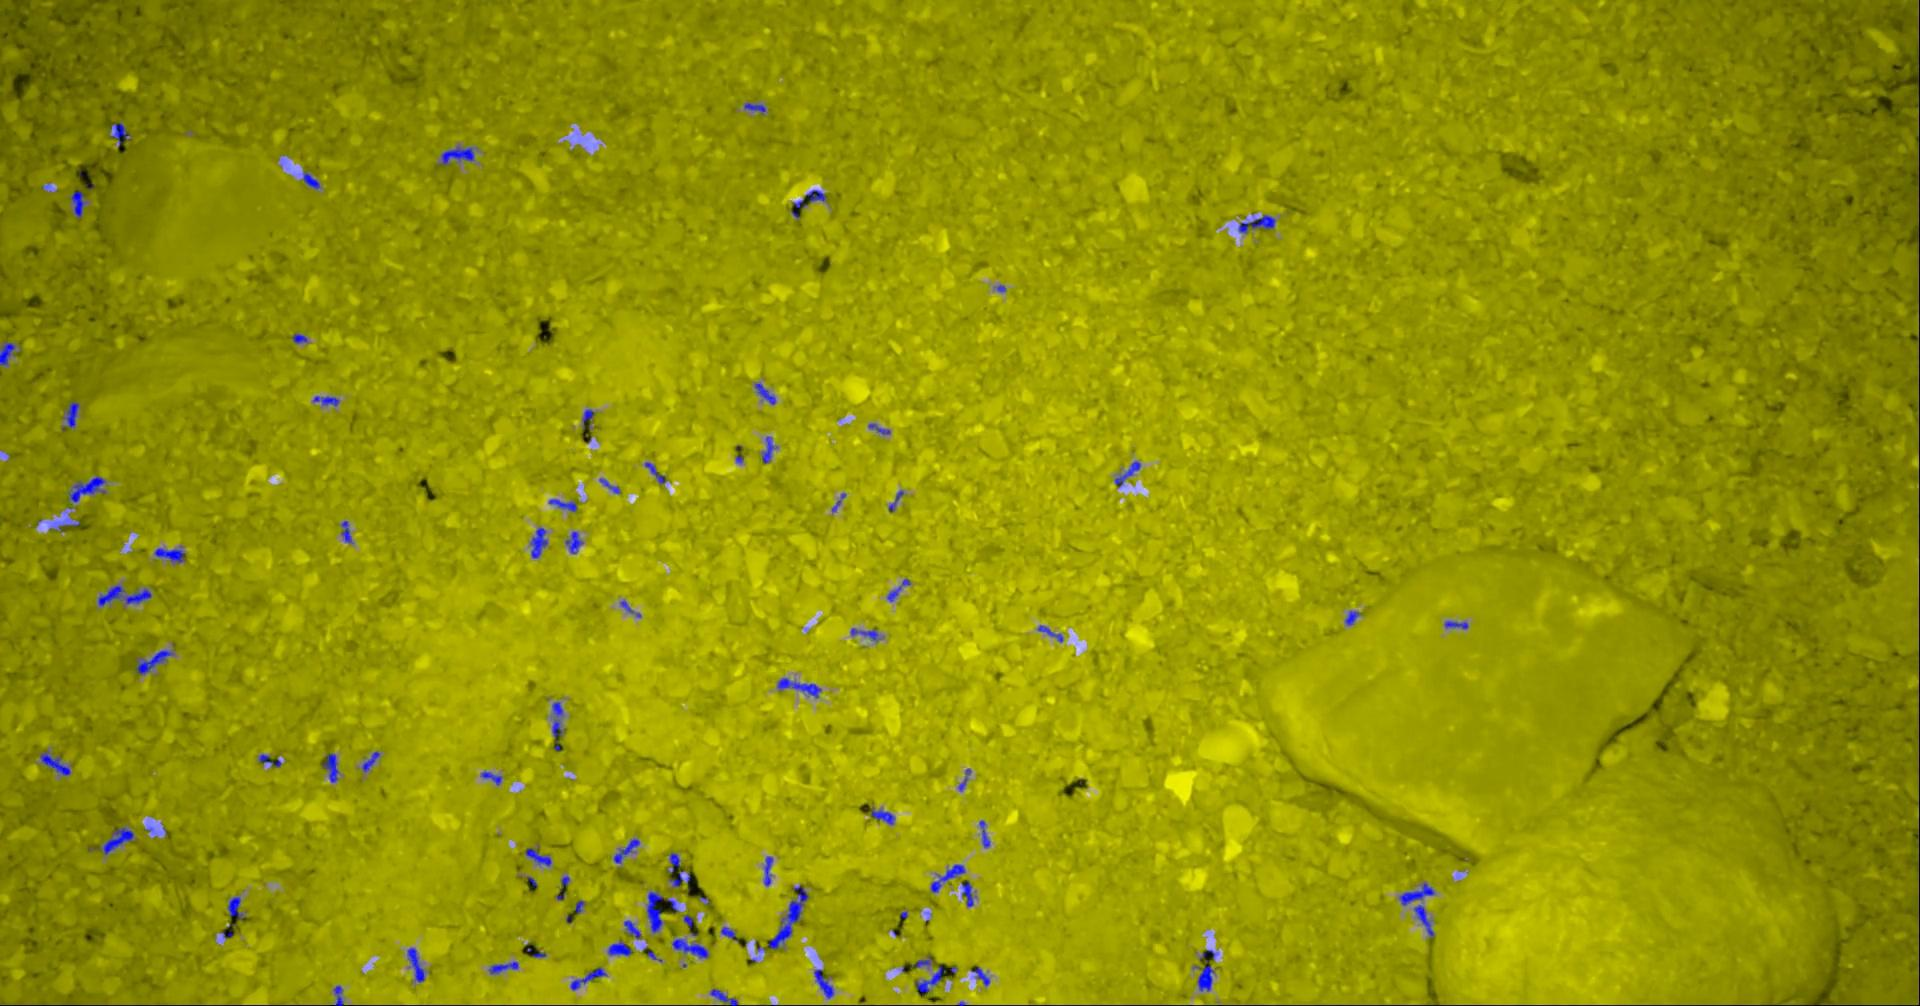ant: (770, 885, 810, 949), (648, 890, 679, 932), (99, 584, 152, 606), (69, 476, 107, 502), (932, 864, 966, 892), (138, 649, 174, 674), (778, 677, 822, 697), (1399, 882, 1436, 904), (571, 967, 608, 989), (104, 827, 135, 854), (916, 965, 945, 992), (41, 751, 72, 775), (673, 937, 710, 958), (1199, 949, 1217, 991), (1239, 213, 1277, 232), (1116, 460, 1142, 486), (552, 701, 566, 749), (1415, 904, 1435, 937), (615, 838, 641, 862), (442, 147, 476, 165), (815, 969, 836, 998), (409, 948, 425, 982), (110, 122, 132, 147), (532, 527, 549, 558), (527, 847, 552, 866), (324, 753, 340, 782), (712, 988, 739, 1005), (756, 384, 777, 404), (229, 895, 246, 920), (72, 191, 88, 218), (763, 436, 778, 464), (156, 547, 187, 561), (1039, 625, 1064, 641), (646, 462, 665, 483), (852, 627, 883, 640), (1, 340, 17, 365), (872, 809, 897, 824), (363, 751, 381, 771), (568, 531, 584, 553), (670, 870, 692, 887), (67, 401, 81, 427), (550, 498, 578, 511), (610, 940, 632, 955), (490, 962, 521, 973), (971, 967, 990, 984), (601, 478, 622, 493), (963, 880, 975, 906), (303, 171, 321, 189), (625, 920, 643, 937), (792, 198, 809, 217), (764, 856, 775, 885), (342, 520, 354, 542), (314, 395, 342, 405), (483, 771, 503, 785), (260, 753, 282, 766), (584, 408, 596, 429), (982, 821, 990, 847), (808, 189, 828, 201), (1346, 610, 1361, 625), (745, 102, 767, 112), (670, 852, 681, 873), (335, 984, 345, 1005), (1446, 620, 1469, 627), (723, 926, 737, 937), (295, 333, 309, 343)
